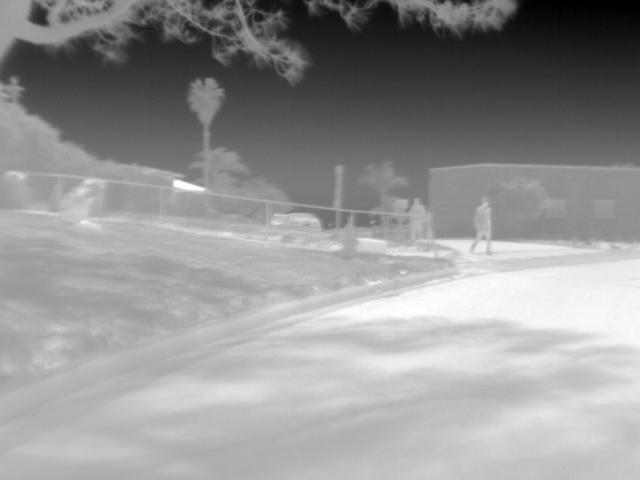car: (284, 211, 323, 232)
person: (467, 196, 496, 254), (411, 195, 429, 241)
